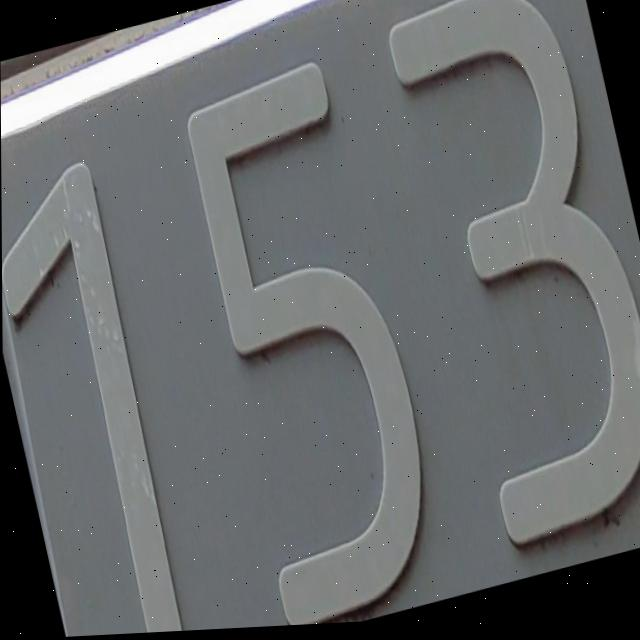character: (163, 32, 459, 632), (376, 0, 640, 578), (1, 145, 207, 640)
